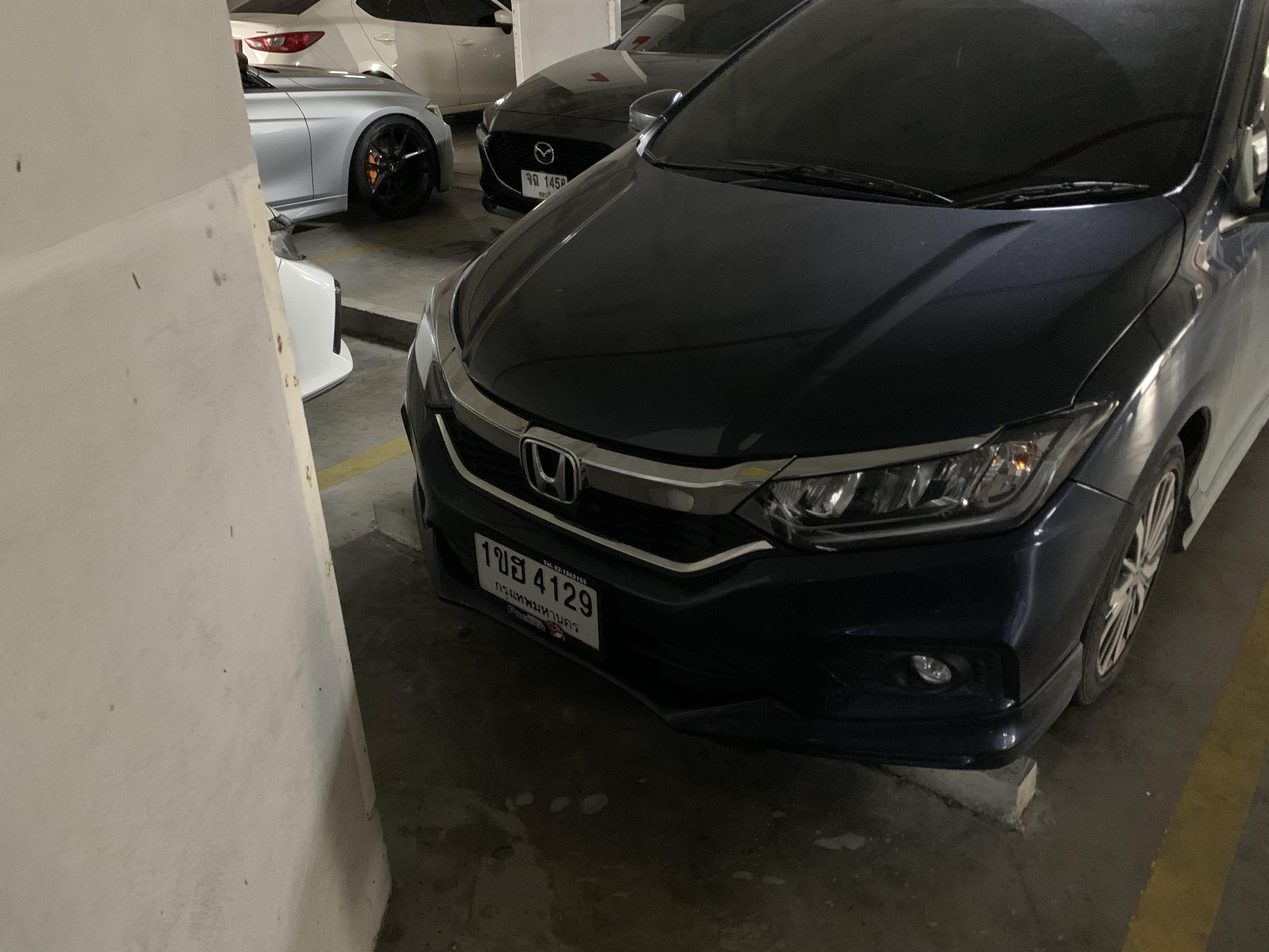license-plate: (471, 526, 607, 646), (521, 165, 571, 204)
